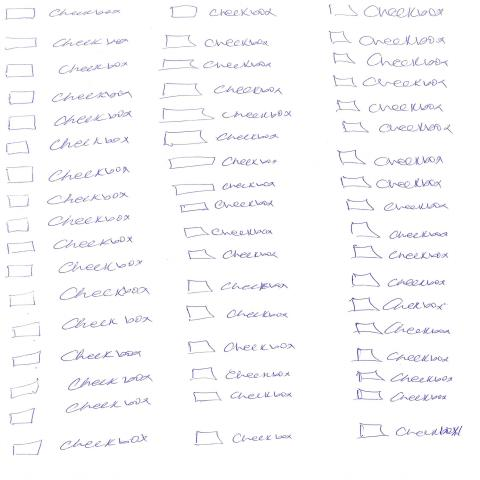Check Box: (11, 315, 152, 338), (13, 434, 149, 457), (8, 286, 150, 307), (8, 260, 145, 279), (6, 214, 135, 234), (7, 235, 136, 255), (9, 111, 133, 131), (6, 166, 132, 185), (161, 82, 284, 100), (337, 149, 448, 168), (6, 138, 129, 155), (6, 62, 128, 79), (328, 30, 449, 47), (360, 421, 467, 440), (332, 52, 451, 69), (7, 90, 133, 106), (7, 193, 130, 209), (330, 3, 448, 19), (186, 305, 290, 322), (6, 37, 131, 51), (189, 340, 297, 356), (164, 35, 270, 51), (191, 367, 294, 383), (187, 279, 289, 295), (195, 430, 296, 446), (162, 58, 272, 72), (5, 8, 122, 21), (331, 76, 448, 89), (193, 390, 293, 405), (170, 5, 276, 19), (183, 226, 277, 240)
